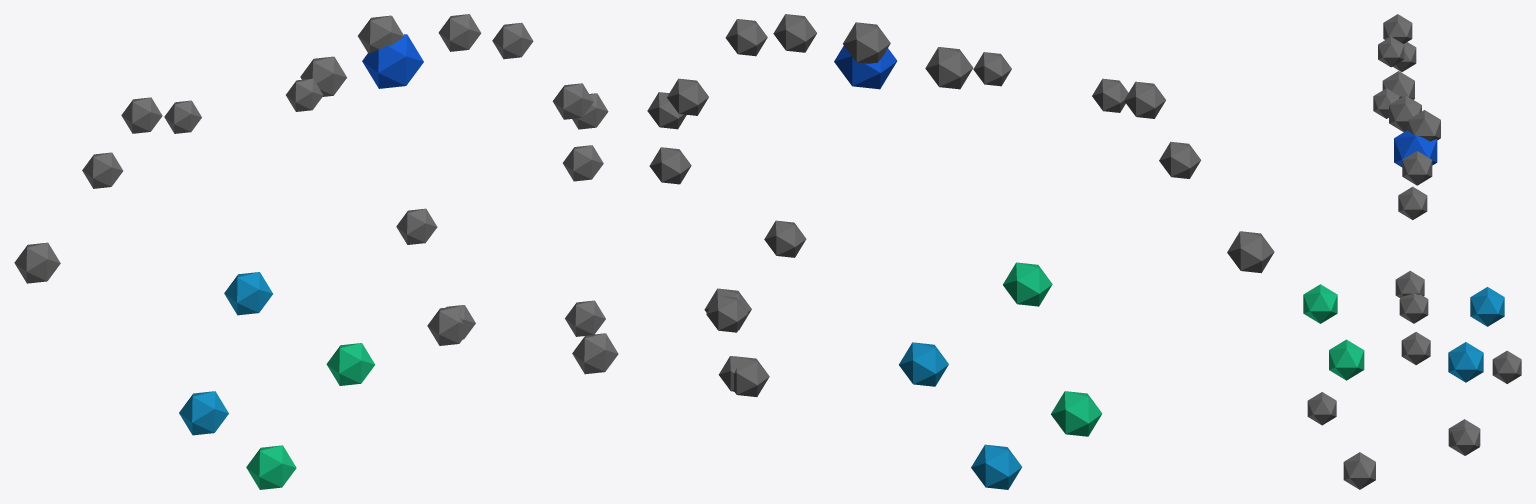
3 renders of one model, left to right at view 1: azimuth 30°, elevation 25°; view 2: azimuth 150°, elevation 25°; view 3: azimuth 270°, elevation 25°, orthographic. The views are drawn at different scales.
Visible parts, largest first — view 1: 05_06_04; view 2: 05_06_04; view 3: 05_06_04.
Part boxes in pixels (left/top/right/bottom): 05_06_04: left=14, top=14, right=618, bottom=489; 05_06_04: left=647, top=14, right=1274, bottom=489; 05_06_04: left=1303, top=14, right=1521, bottom=489.
Size of the model in its own units: 0.6522 by 0.4168 by 0.2537.
